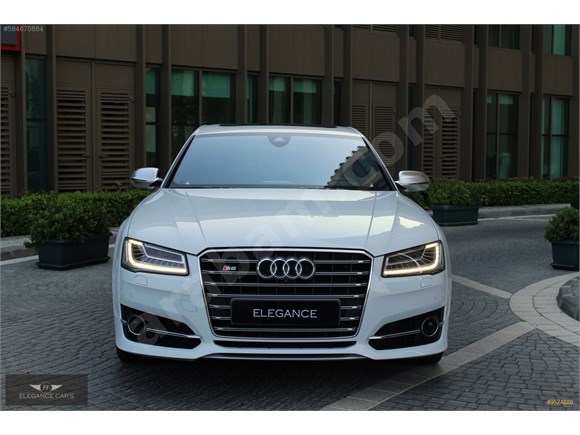audi: (254, 256, 317, 284)
